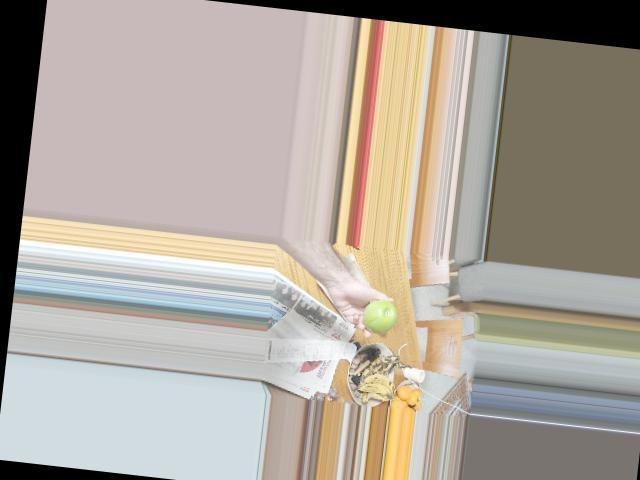apple: (362, 296, 399, 334)
